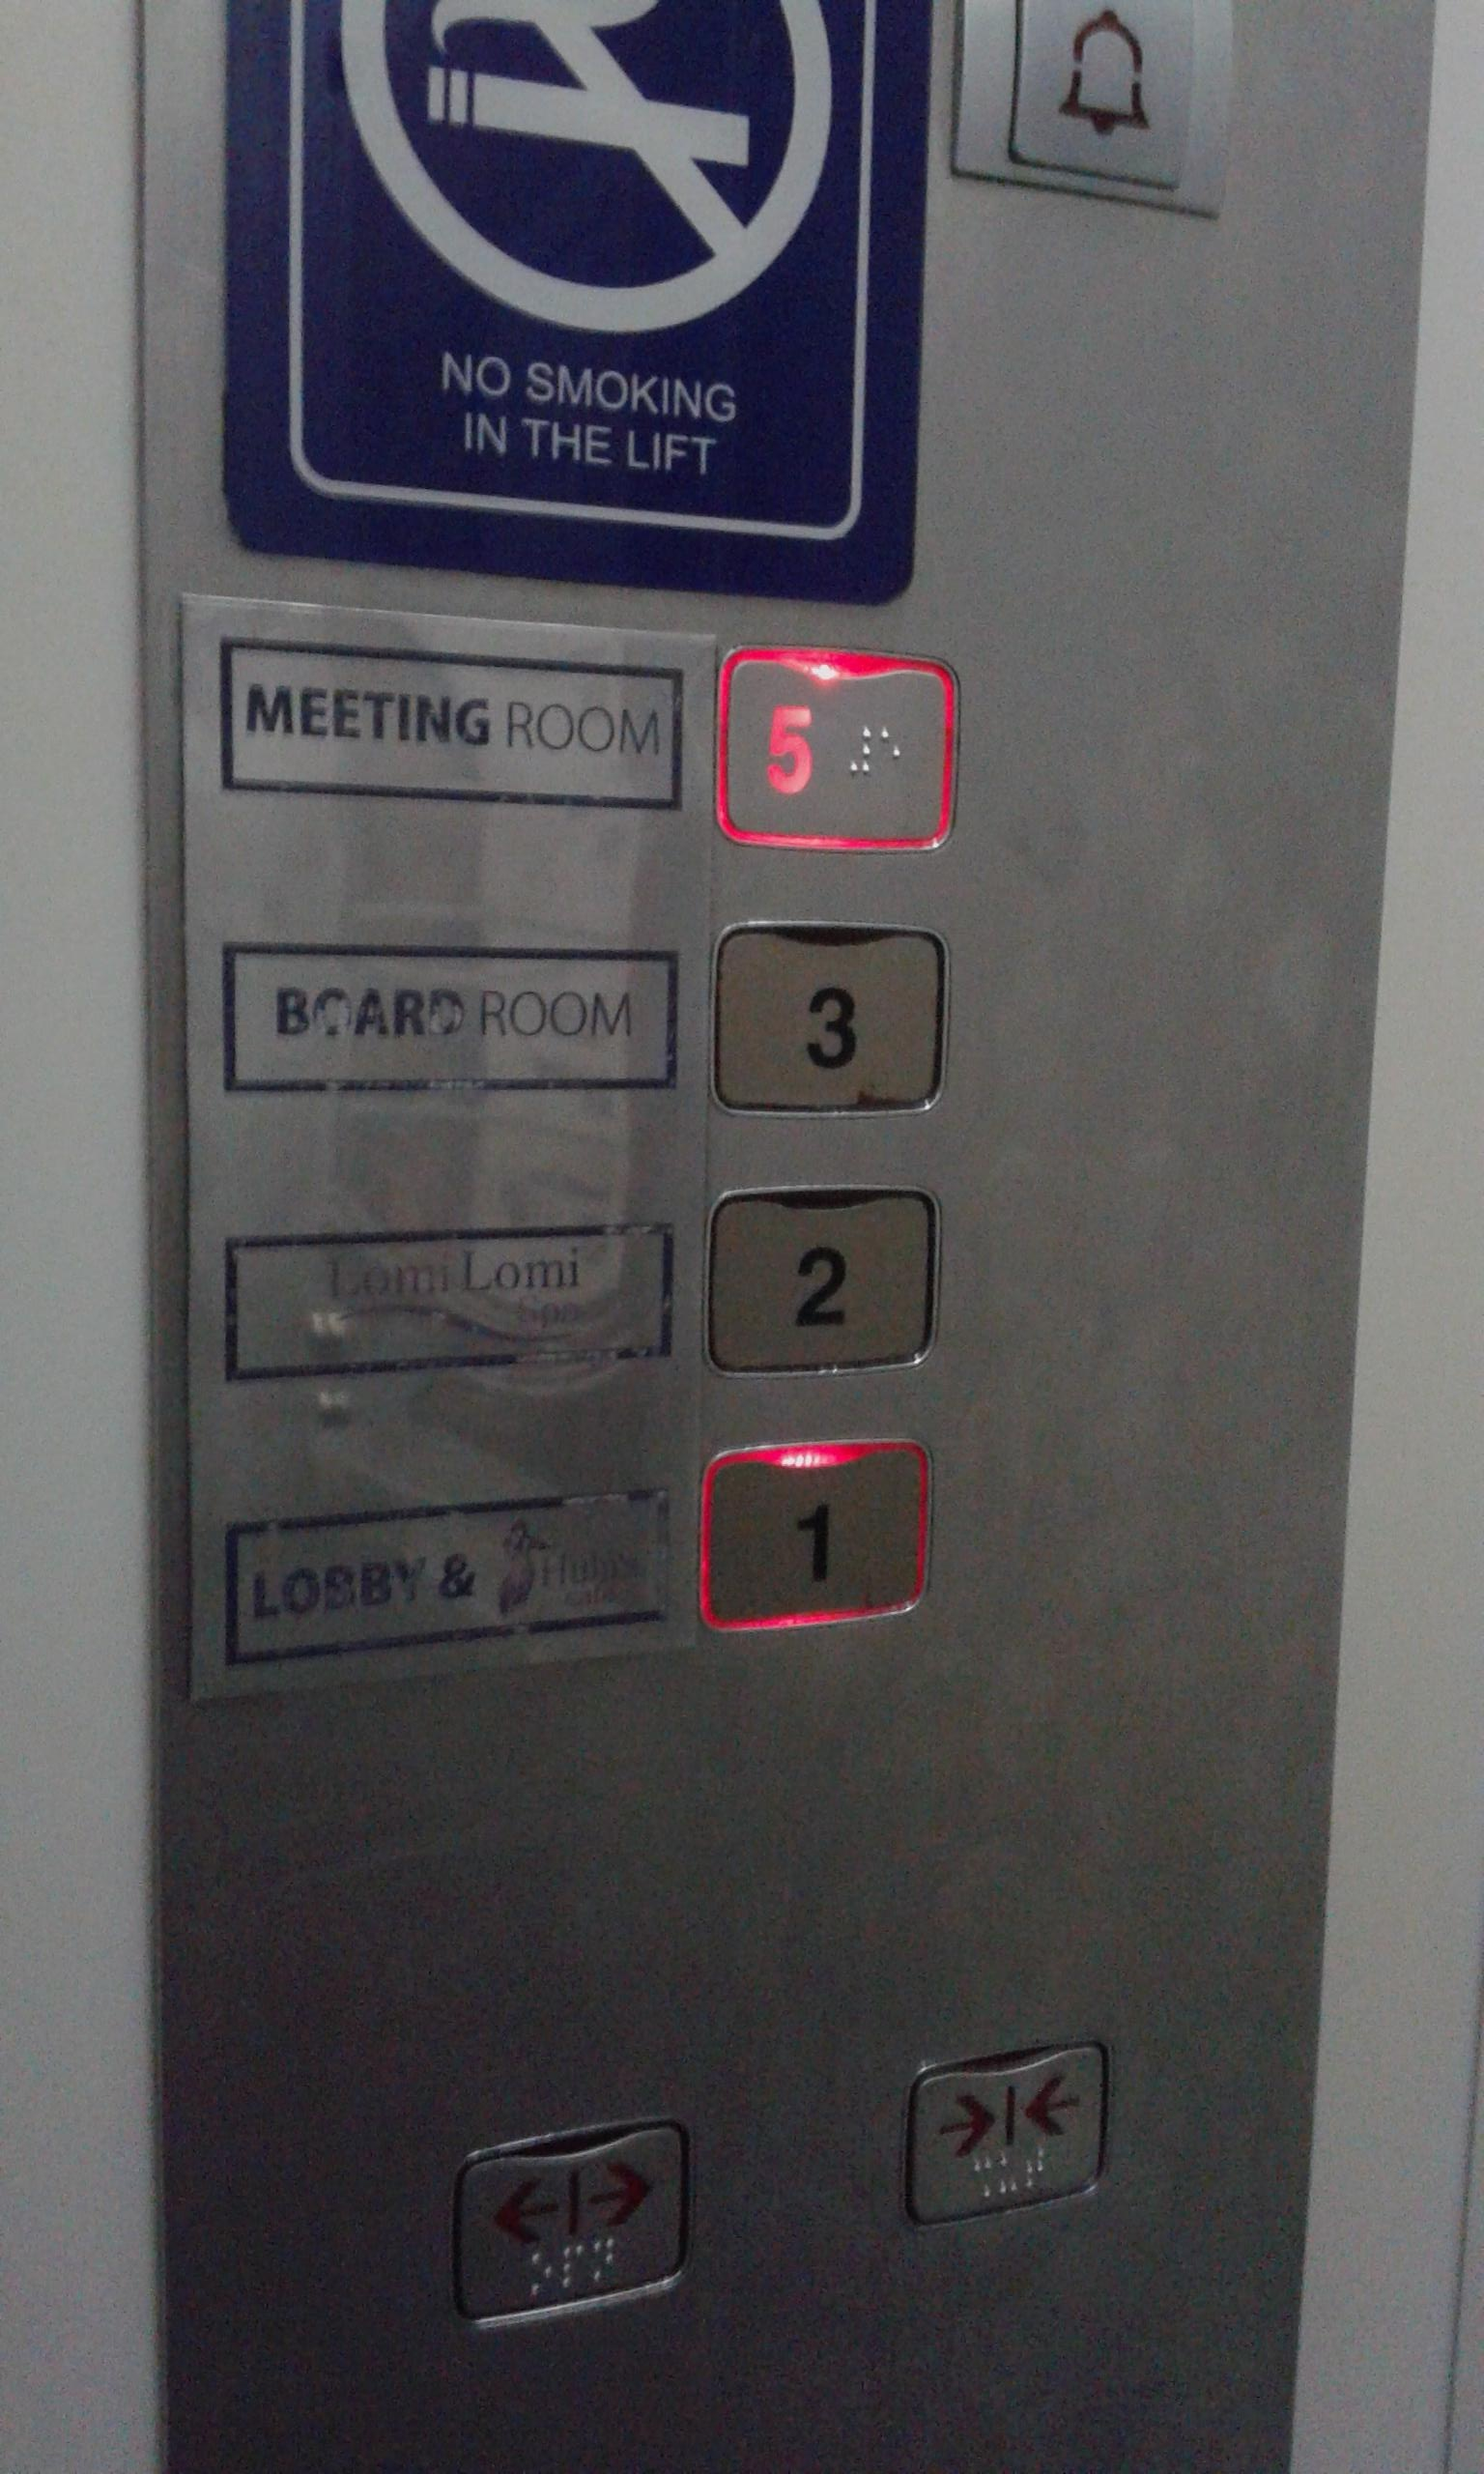1: (696, 1430, 938, 1645)
2: (700, 1172, 940, 1389)
3: (705, 905, 952, 1126)
5: (705, 641, 961, 857)
alarm: (989, 2, 1208, 201)
close: (899, 2029, 1129, 2237)
open: (445, 2096, 705, 2347)
